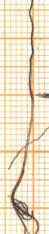flower: (7, 198, 49, 234)
root: (24, 0, 37, 98)
stem: (9, 93, 37, 199)
